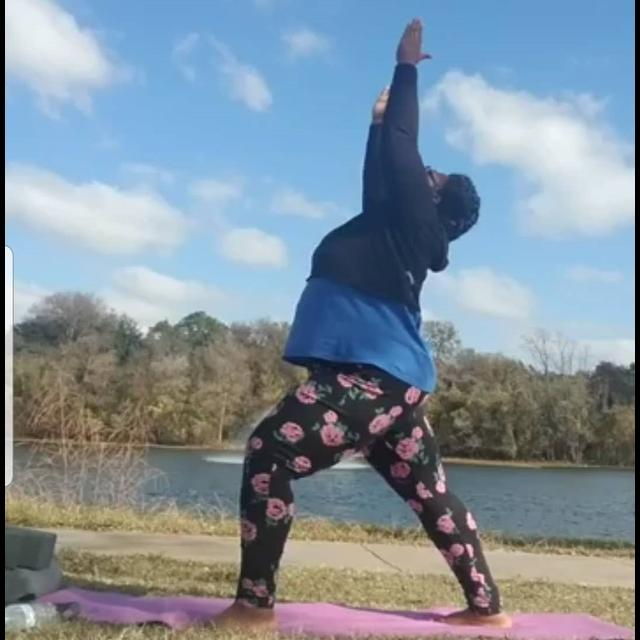Warrior_I: (169, 12, 519, 635)
